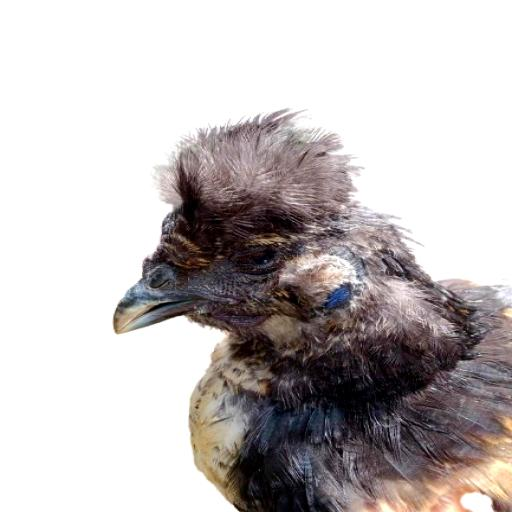disease: (224, 224, 366, 363), (114, 208, 227, 304)
